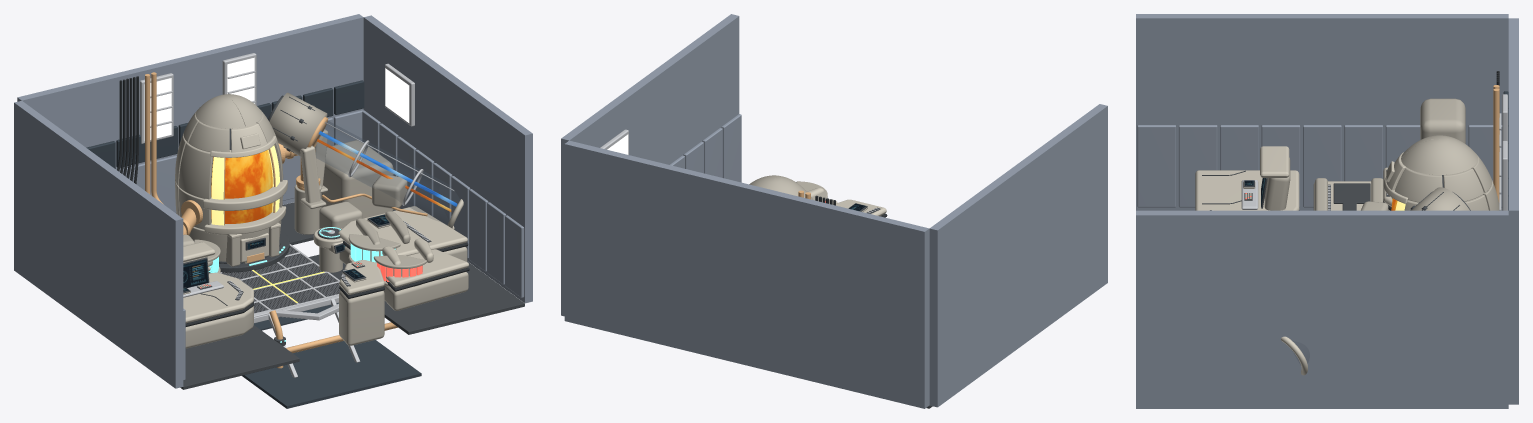
File: power_room.glb
The picture shows the model from 3 angles, left to right: view 1: azimuth 30°, elevation 25°; view 2: azimuth 150°, elevation 25°; view 3: azimuth 270°, elevation 25°; orthographic projection. The views are drawn at different scales.
Parts seen in each view (by area): view 1: wall_left, wall_back, wall_right, pit_floor, tube_glass, floor_side_1, floor_side_-1, right_back_machine, flame_core, right_machine_armor, front_console_undercarriage, tube_back_housing (+50 smaller); view 2: wall_back, wall_left, wall_right, wall_right_panel_-4, wall_right_panel_-3, reactor_shell_cap; view 3: wall_right, wall_left, wall_back, wall_left_panel_-4, left_console_armor, wall_left_panel_-3, wall_left_panel_0, reactor_shell_cap, wall_left_panel_1, wall_left_panel_-2, left_cabinet, wall_left_panel_-1 (+14 smaller).
Boxes of the visible parts, x1=… form: wall_left: x1=14, y1=100, x2=183, y2=388; wall_back: x1=17, y1=14, x2=363, y2=204; wall_right: x1=363, y1=15, x2=532, y2=303; pit_floor: x1=242, y1=340, x2=421, y2=408; tube_glass: x1=312, y1=120, x2=459, y2=224; floor_side_1: x1=308, y1=254, x2=524, y2=334; floor_side_-1: x1=180, y1=325, x2=299, y2=389; right_back_machine: x1=321, y1=140, x2=393, y2=218; flame_core: x1=211, y1=150, x2=272, y2=223; right_machine_armor: x1=338, y1=206, x2=467, y2=255; front_console_undercarriage: x1=339, y1=290, x2=384, y2=345; tube_back_housing: x1=269, y1=92, x2=327, y2=156; wall_back: x1=564, y1=140, x2=929, y2=408; wall_left: x1=929, y1=104, x2=1107, y2=407; wall_right: x1=561, y1=14, x2=739, y2=316; wall_right_panel_-4: x1=721, y1=114, x2=741, y2=182; wall_right_panel_-3: x1=702, y1=128, x2=722, y2=177; reactor_shell_cap: x1=749, y1=175, x2=806, y2=197; wall_right: x1=1136, y1=210, x2=1508, y2=408; wall_left: x1=1136, y1=14, x2=1508, y2=210; wall_back: x1=1508, y1=18, x2=1518, y2=404; wall_left_panel_-4: x1=1137, y1=125, x2=1175, y2=207; left_console_armor: x1=1195, y1=170, x2=1299, y2=210; wall_left_panel_-3: x1=1178, y1=125, x2=1217, y2=207; wall_left_panel_0: x1=1303, y1=125, x2=1341, y2=207; reactor_shell_cap: x1=1401, y1=135, x2=1477, y2=174; wall_left_panel_1: x1=1344, y1=125, x2=1382, y2=181; wall_left_panel_-2: x1=1220, y1=125, x2=1258, y2=170; left_cabinet: x1=1420, y1=98, x2=1465, y2=143; wall_left_panel_-1: x1=1261, y1=125, x2=1300, y2=206.
Size of the model in its own units: 14.14 by 7.95 by 11.1.
Materials: 19 (5 with a texture image).
